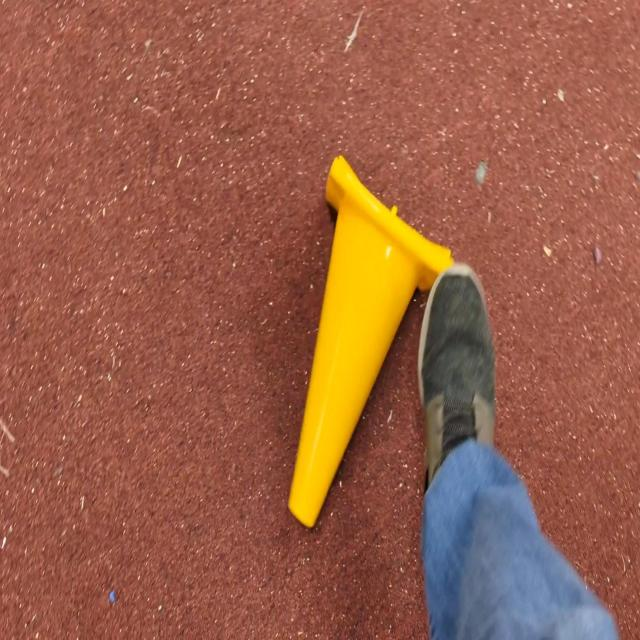frc_cone: (290, 153, 453, 539)
